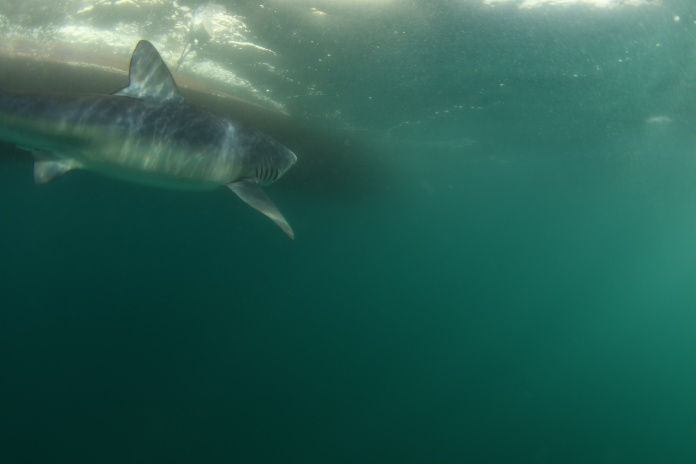Azul: (1, 38, 311, 238)
